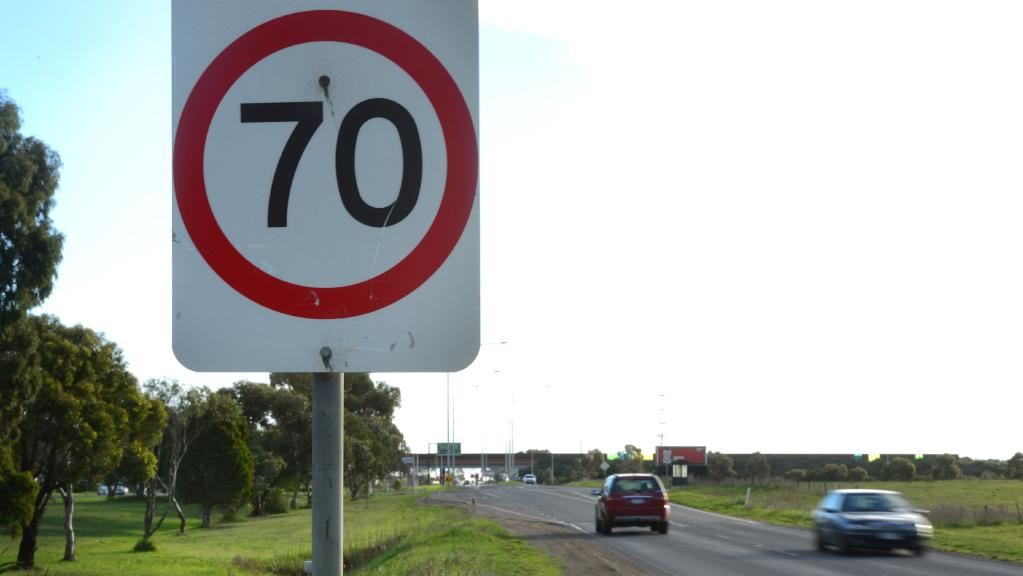Speed_limit_70km: (172, 10, 481, 319)
